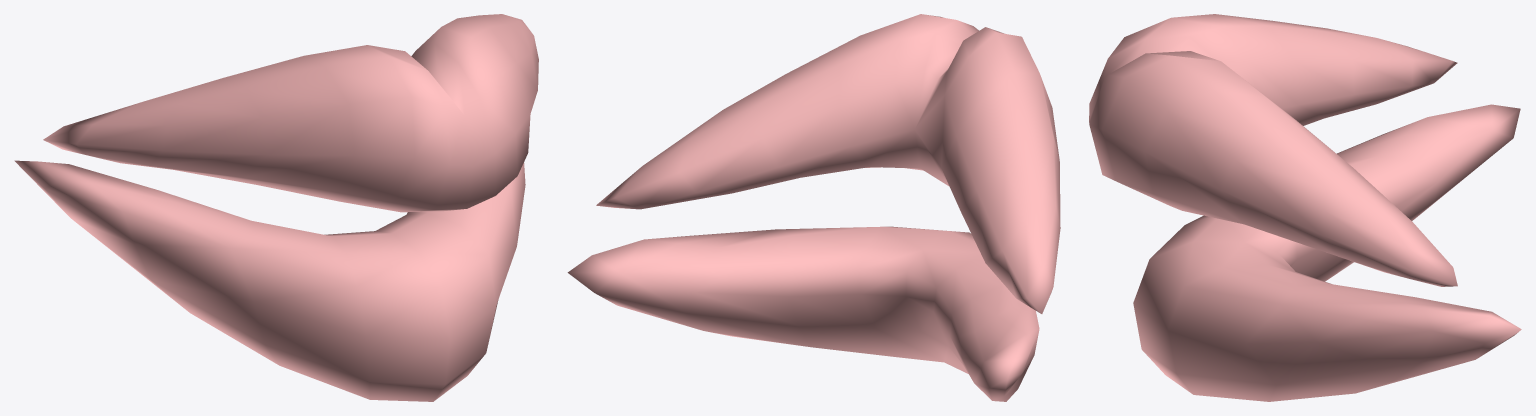
Rendered from kiss.fbx.
3 views of the same model, side by side, from view 1: azimuth 30°, elevation 25°; view 2: azimuth 150°, elevation 25°; view 3: azimuth 270°, elevation 25° (orthographic). The views are drawn at different scales.
Visible parts, largest first — view 1: Kiss; view 2: Kiss; view 3: Kiss.
Boxes of the visible parts, x1,y1,x2,y2 form: Kiss: (14, 14, 538, 401); Kiss: (567, 14, 1060, 401); Kiss: (1089, 14, 1521, 401).
Bounding box in the file's own units: 38.55 × 27.25 × 31.57.
